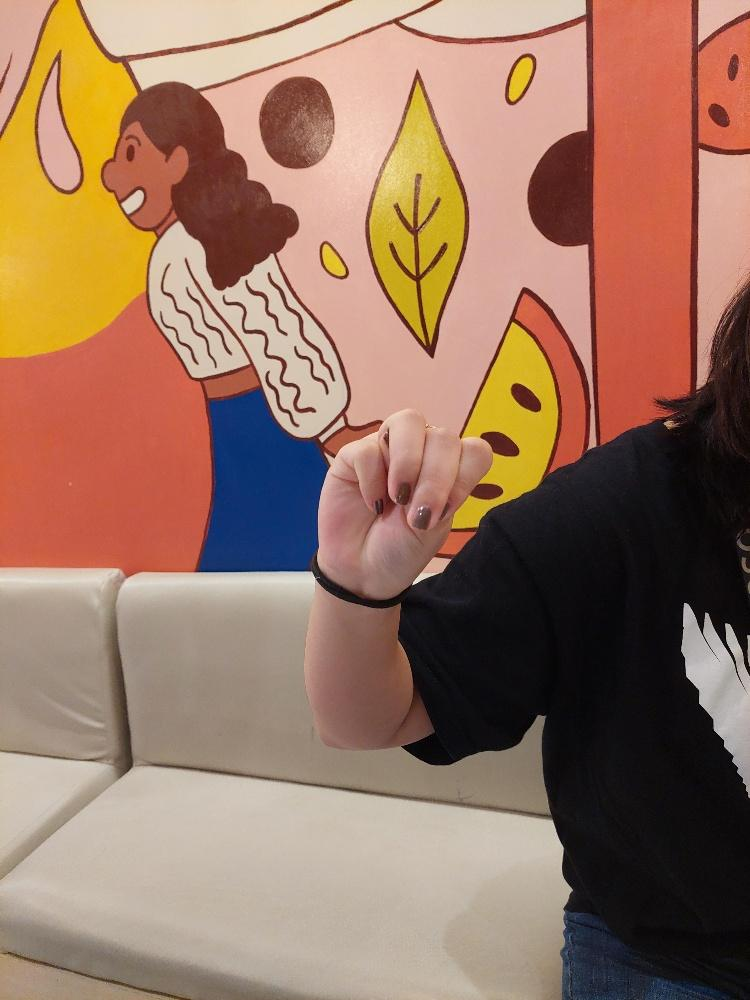m: (314, 403, 495, 593)
